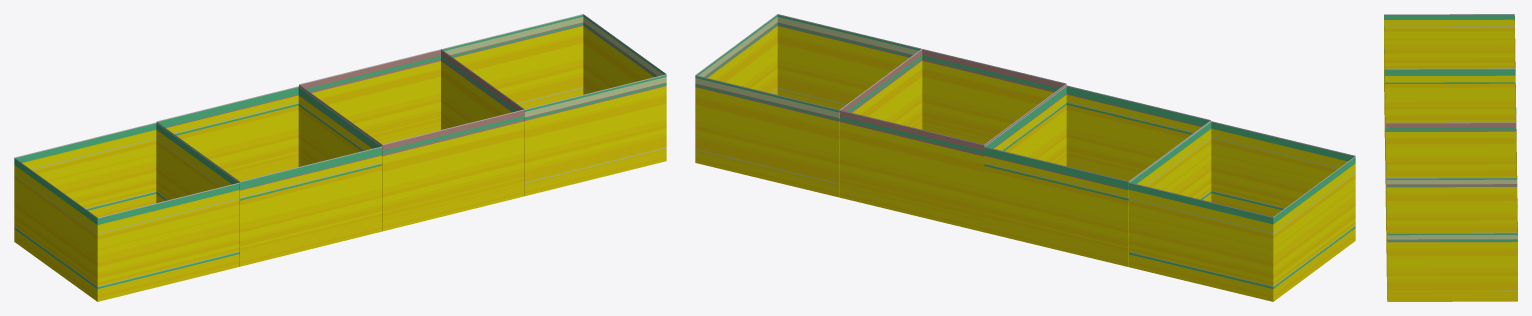
The picture shows the model from 3 angles, left to right: view 1: azimuth 30°, elevation 25°; view 2: azimuth 150°, elevation 25°; view 3: azimuth 270°, elevation 25°; orthographic projection. The views are drawn at different scales.
Visible parts, largest first — view 1: mesh; view 2: mesh; view 3: mesh.
Boxes of the visible parts, x1,y1,x2,y2 form: mesh: [14, 14, 666, 301]; mesh: [695, 14, 1355, 301]; mesh: [1384, 14, 1517, 301].
Size of what is drawn, in the model's own units: 654 by 95 by 167.
